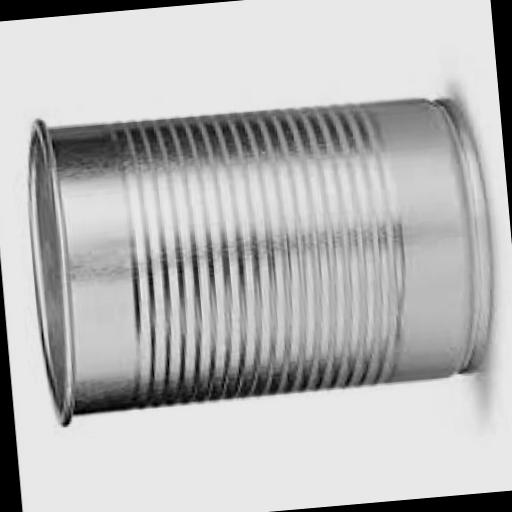metal: (19, 80, 500, 429)
